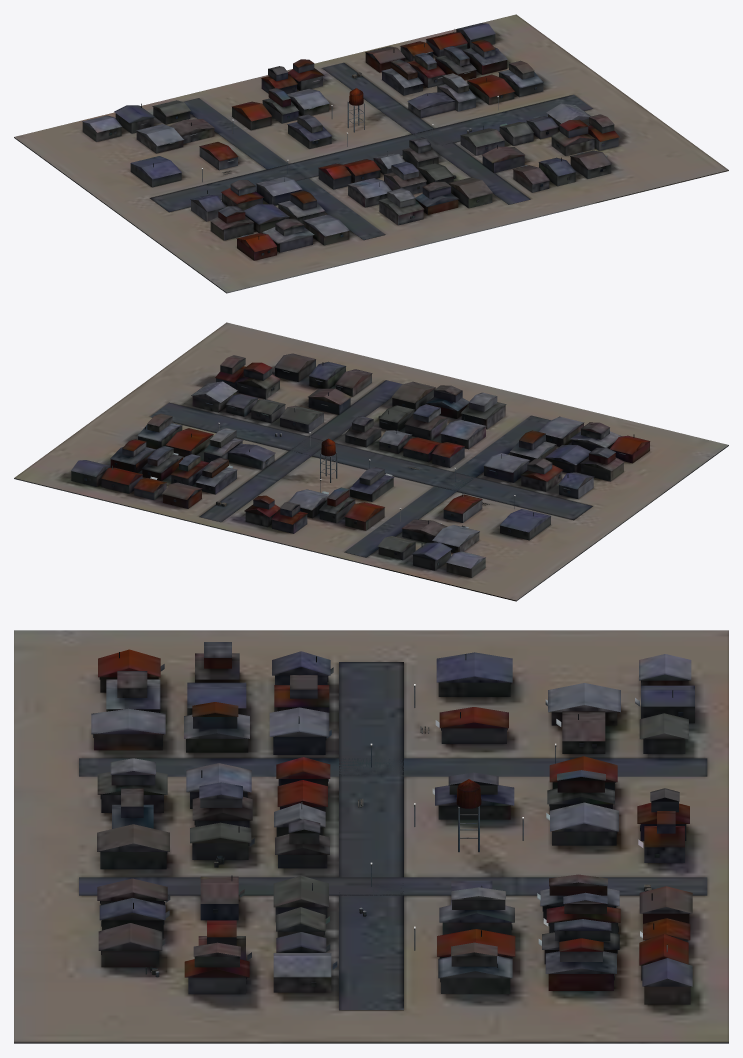
File: rust_outskirts_low.glb
3 renders of one model, top to bottom at view 1: azimuth 30°, elevation 25°; view 2: azimuth 150°, elevation 25°; view 3: azimuth 270°, elevation 25°, orthographic. The views are drawn at different scales.
Visible parts, largest first — view 1: site_ground, props_shanties, props_tank; view 2: site_ground, props_shanties, props_tank; view 3: site_ground, props_shanties, props_tank, props_clutter.
Boxes of the visible parts, x1,y1,x2,y2 form: site_ground: (14,14,728,293); props_shanties: (82,23,619,260); props_tank: (347,88,364,132); site_ground: (14,322,728,601); props_shanties: (71,353,650,577); props_tank: (320,438,337,482); site_ground: (14,630,728,1043); props_shanties: (91,642,694,1004); props_tank: (456,779,481,852); props_clutter: (145,684,651,977).
Bounding box in the file's own units: 180 × 14.29 × 132.
Materials: 4 (4 with a texture image).
